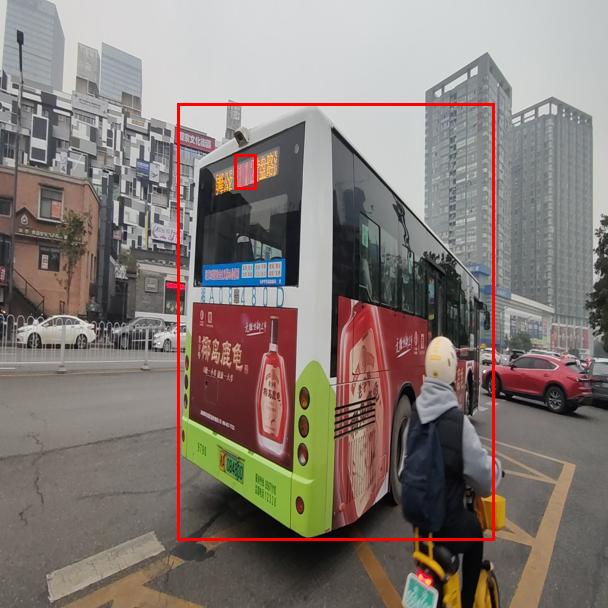bus: (177, 103, 494, 540)
screen: (234, 154, 256, 189)
